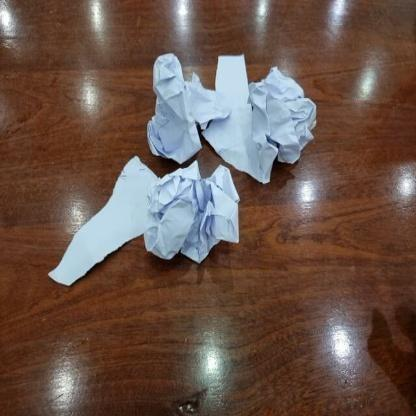trash: (50, 157, 156, 282), (145, 53, 236, 161), (145, 162, 240, 264), (203, 55, 275, 181), (244, 69, 316, 165)
